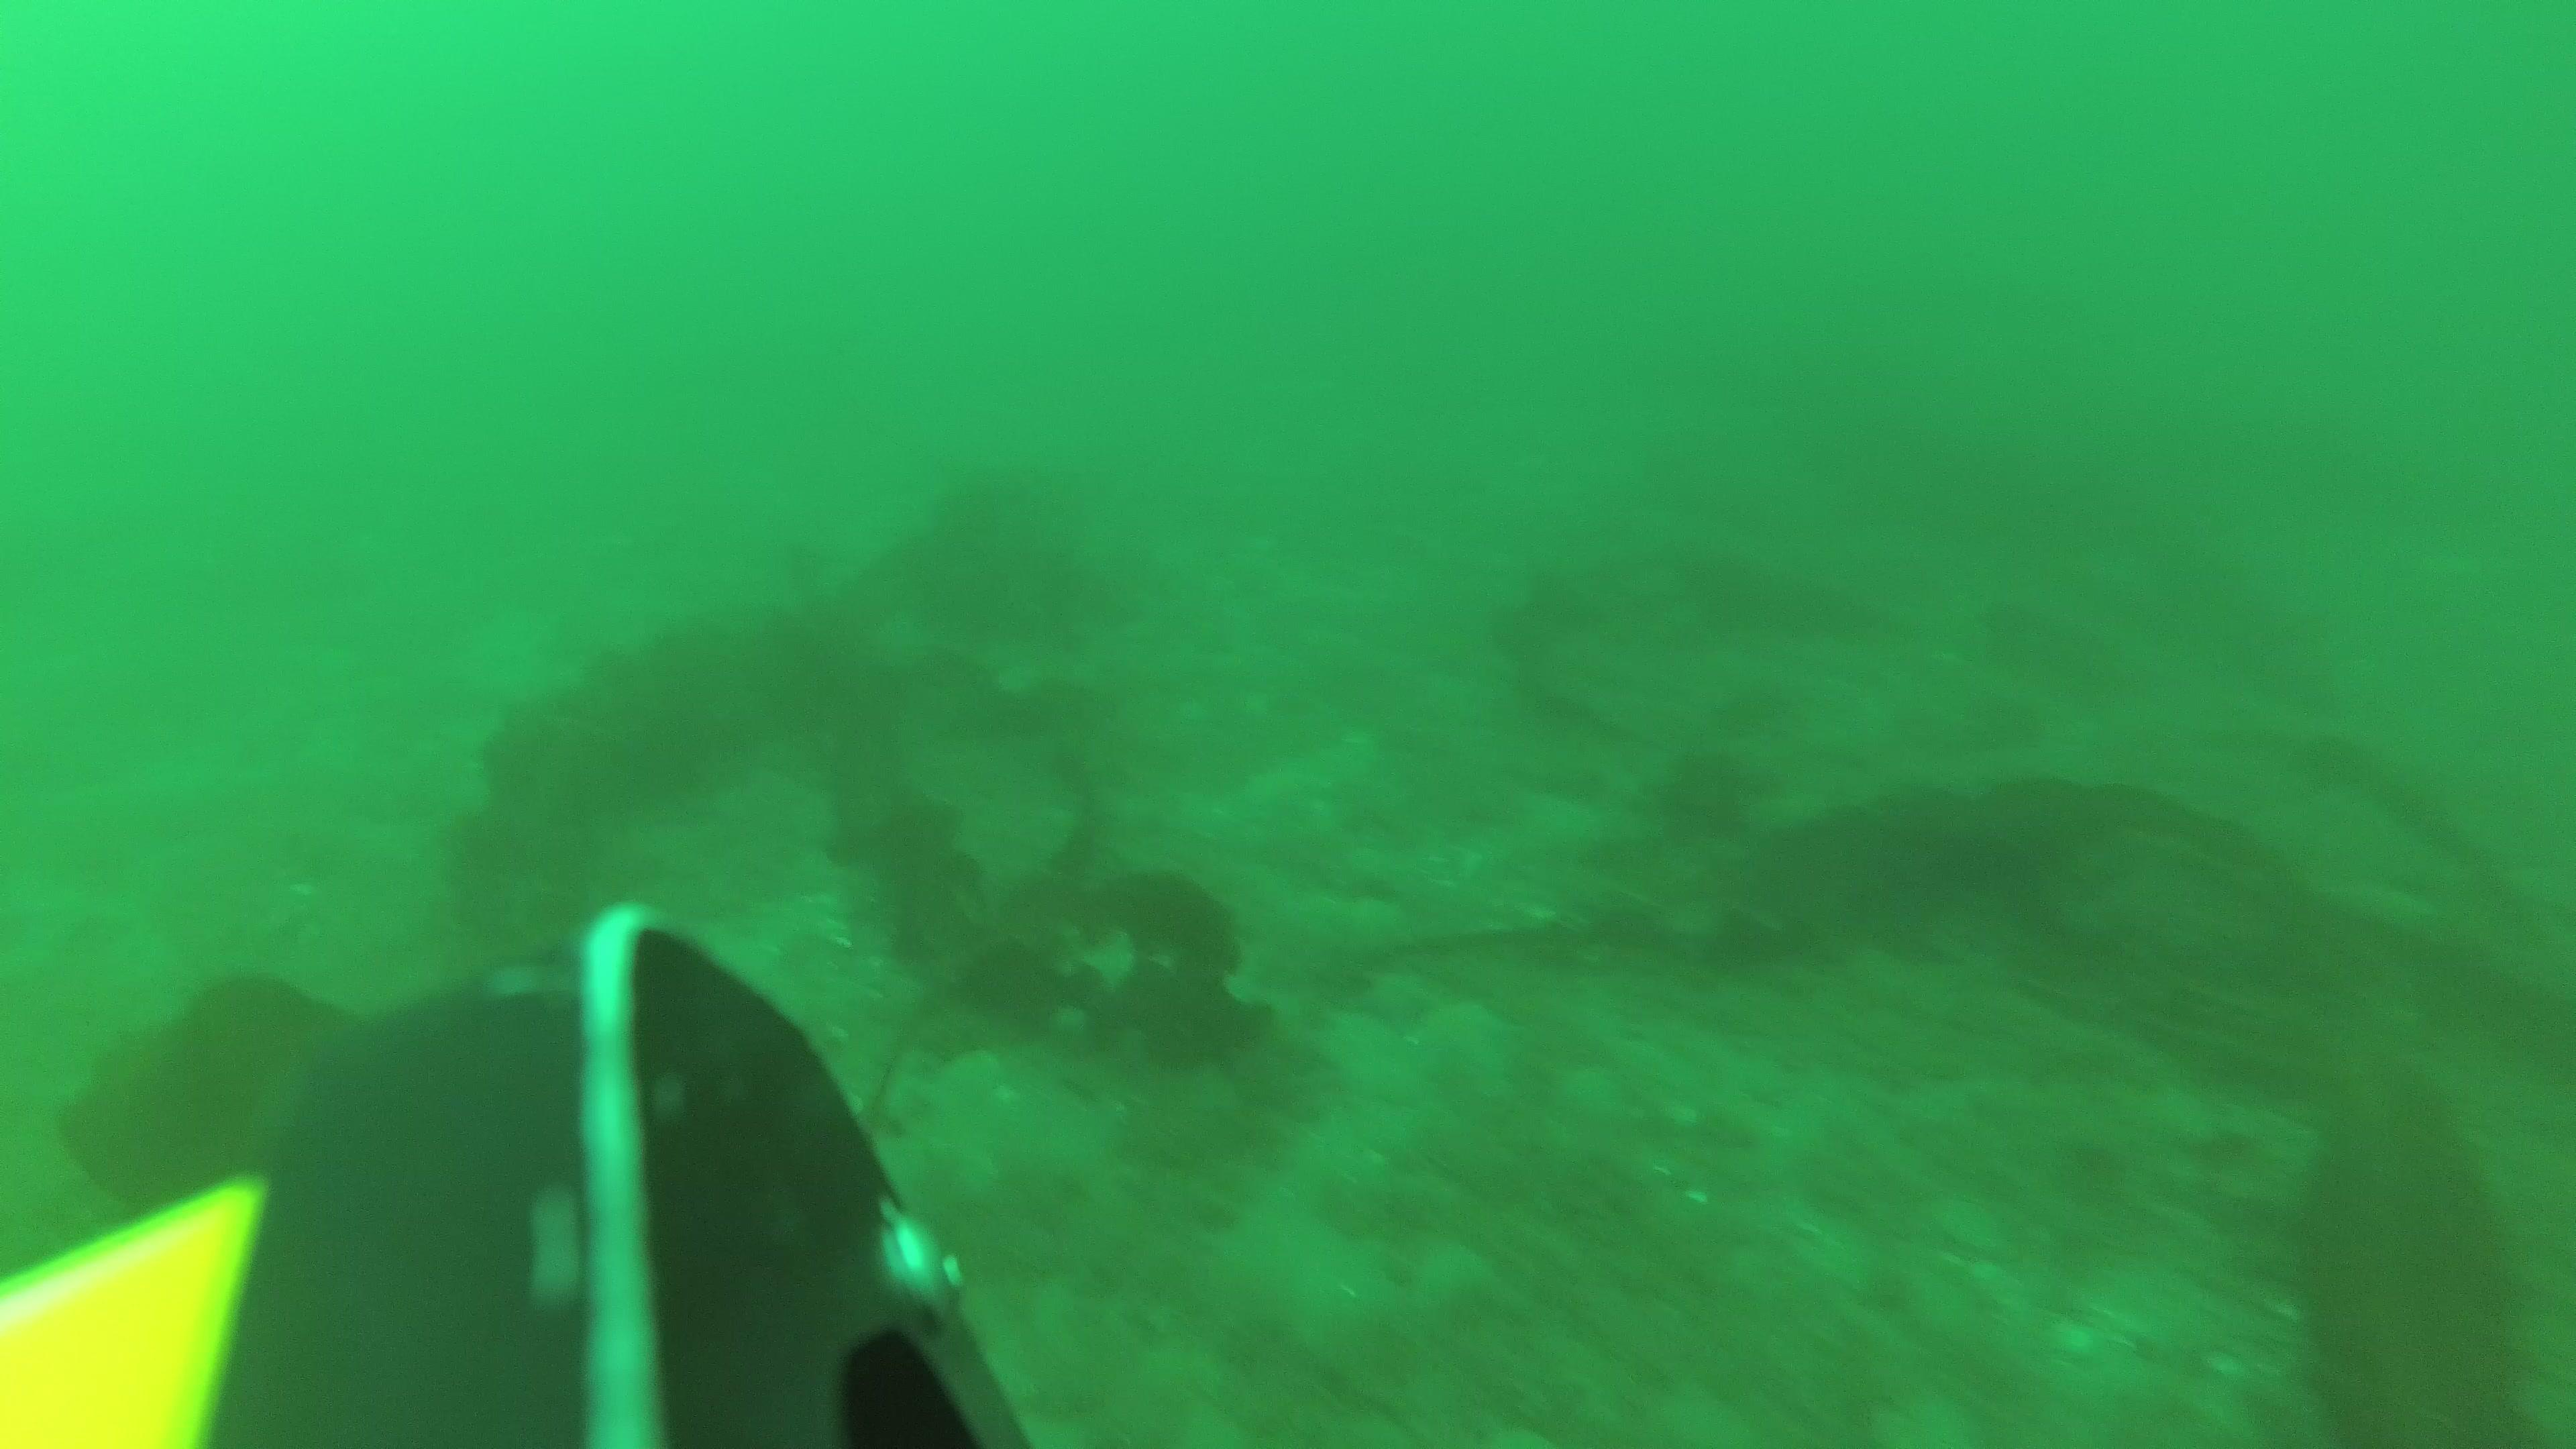starfish: (1419, 996, 1527, 1081), (1352, 962, 1444, 1037)
